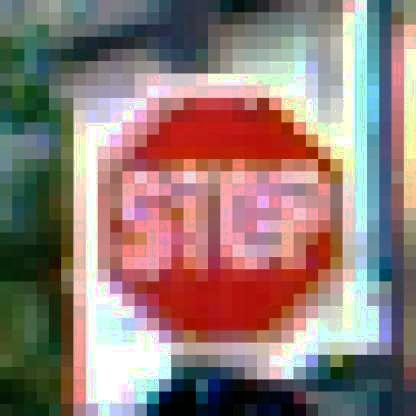Stop Sign: (86, 83, 354, 353)
